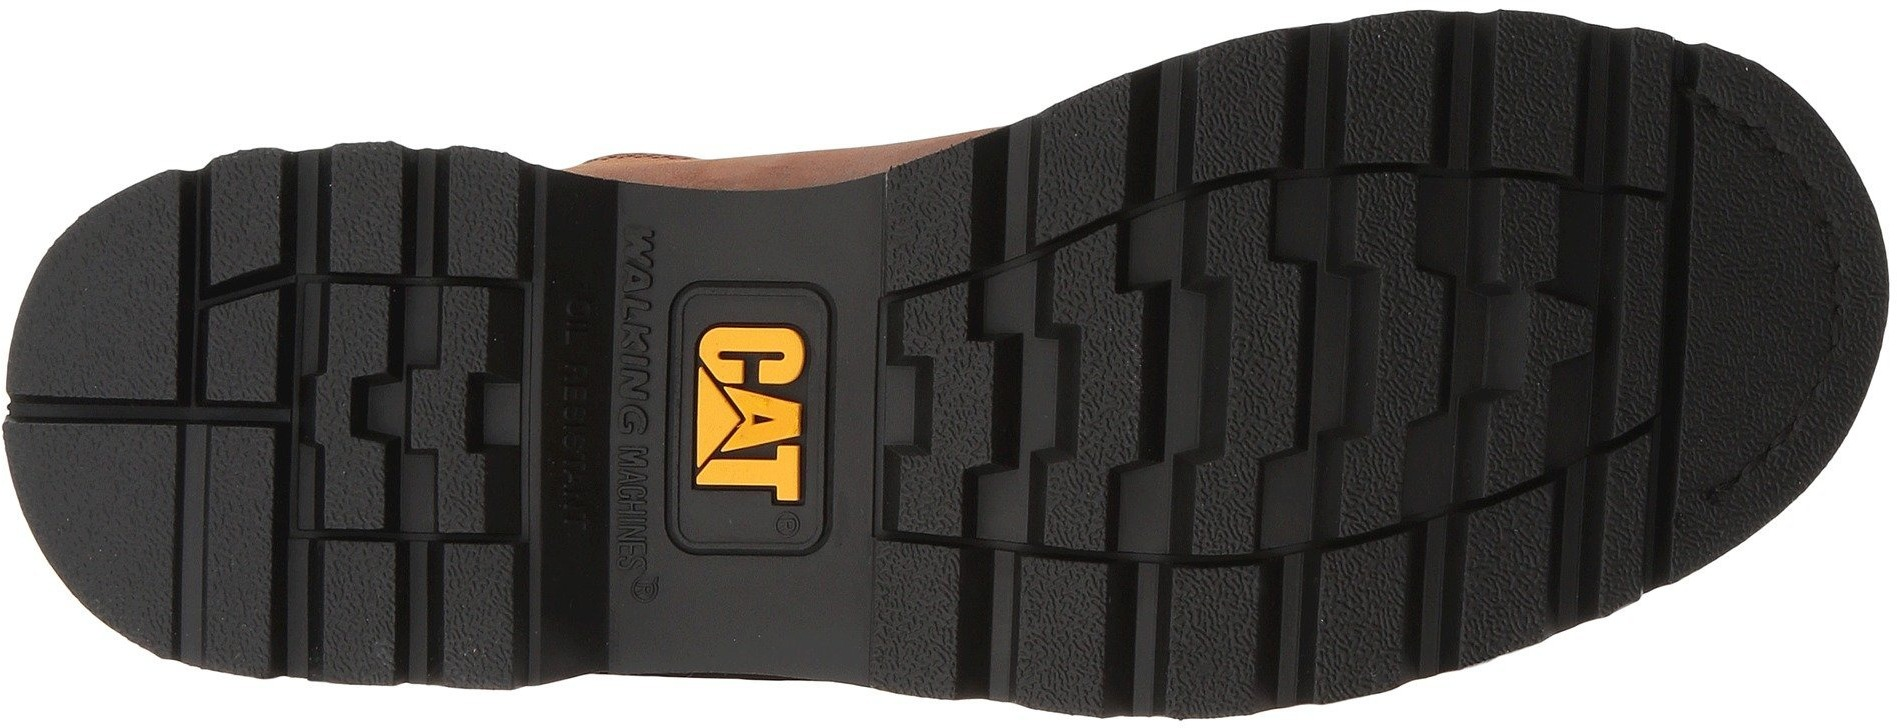exclude: (541, 171, 621, 680), (540, 668, 887, 713)
other: (1693, 137, 1844, 293), (1682, 301, 1837, 445), (703, 564, 798, 655), (710, 198, 803, 281)
quad: (886, 191, 1321, 595), (100, 213, 527, 622), (1317, 155, 1684, 498), (625, 271, 882, 560), (1165, 437, 1428, 692), (1184, 48, 1448, 297)
text: (657, 322, 837, 505)
